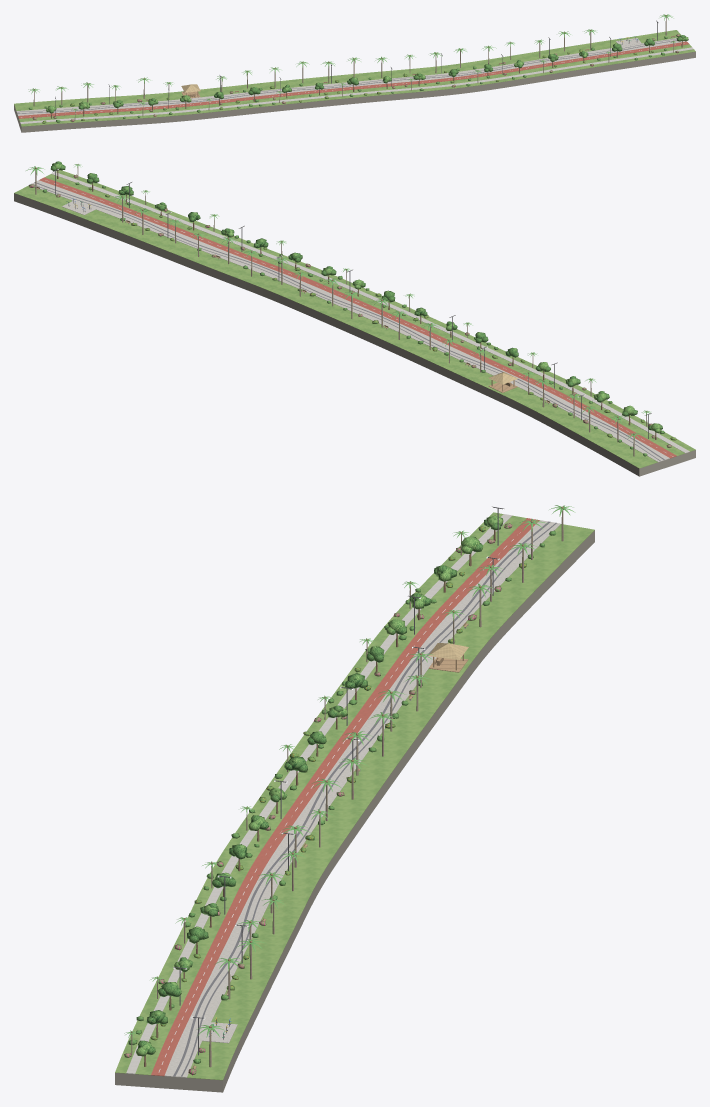
Rendered from parque_12.glb.
3 renders of one model, top to bottom at view 1: azimuth 30°, elevation 25°; view 2: azimuth 150°, elevation 25°; view 3: azimuth 270°, elevation 25°, orthographic. The views are drawn at different scales.
Visible parts, largest first — view 1: parque_12; view 2: parque_12; view 3: parque_12.
Part boxes in pixels (x1,y1,x2,y2): parque_12: [14, 20, 695, 132]; parque_12: [14, 169, 695, 476]; parque_12: [115, 506, 594, 1092].
Bounding box in the file's own units: 297 × 14.28 × 105.
25 materials, 14 textured.
